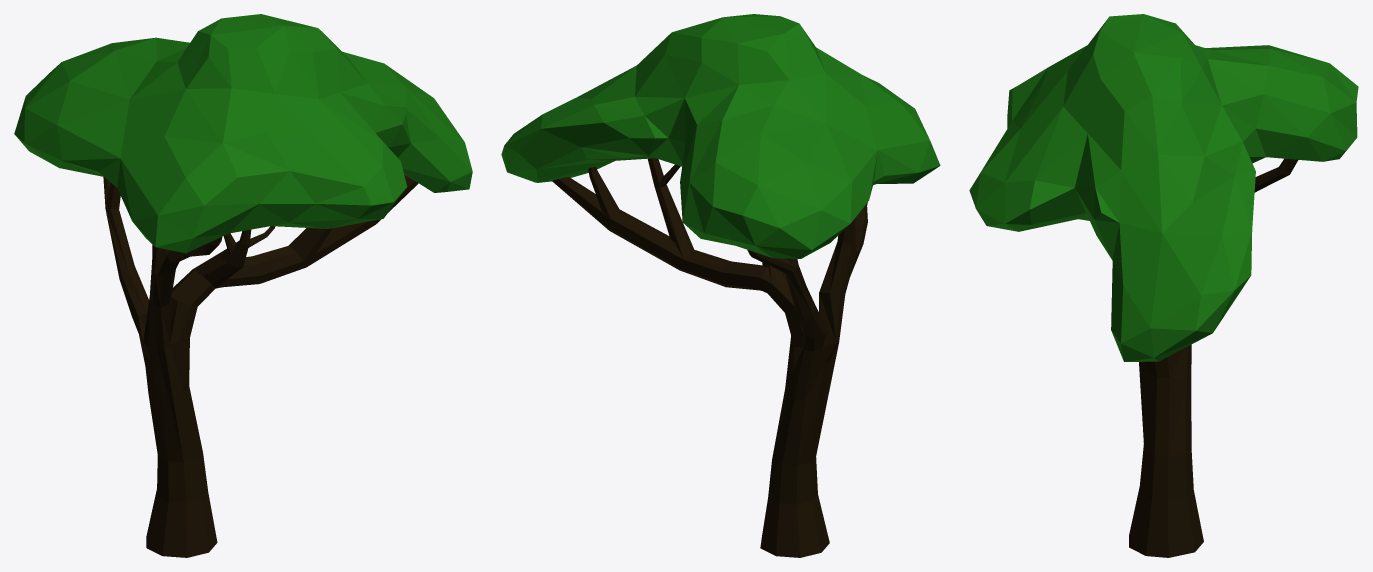
The model's file is Tree_Plains_6.fbx.
The picture shows the model from 3 angles, left to right: view 1: azimuth 30°, elevation 25°; view 2: azimuth 150°, elevation 25°; view 3: azimuth 270°, elevation 25°; orthographic projection. The views are drawn at different scales.
Parts seen in each view (by area): view 1: Tree_Plains_6; view 2: Tree_Plains_6; view 3: Tree_Plains_6.
Boxes of the visible parts, bbox=[...] form: Tree_Plains_6: bbox=[14, 14, 472, 557]; Tree_Plains_6: bbox=[501, 14, 940, 557]; Tree_Plains_6: bbox=[969, 14, 1358, 557].
Size of the model in its own units: 674 by 837 by 548.
